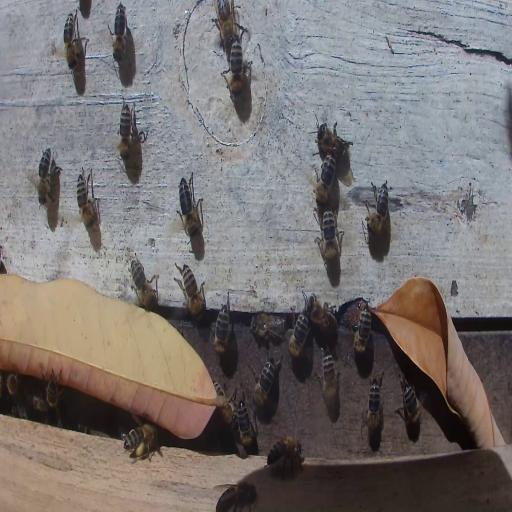nonpollenbee: (264, 433, 304, 481), (315, 122, 350, 170), (316, 204, 342, 268), (76, 166, 100, 232), (363, 179, 391, 235), (130, 254, 159, 308), (178, 172, 201, 240), (180, 262, 205, 324), (363, 371, 384, 442), (320, 350, 342, 412), (214, 0, 240, 52), (215, 482, 259, 512), (234, 397, 256, 456), (399, 378, 423, 432), (353, 301, 373, 362), (211, 301, 231, 361), (250, 312, 286, 345), (302, 296, 338, 328), (251, 362, 277, 406), (228, 41, 246, 103), (314, 154, 335, 206), (111, 2, 128, 63), (119, 100, 134, 163), (36, 147, 52, 206), (289, 313, 309, 359), (64, 12, 78, 70), (220, 390, 238, 426), (46, 375, 60, 413), (6, 370, 20, 400), (10, 405, 27, 417)
pollenbee: (123, 420, 160, 458)
